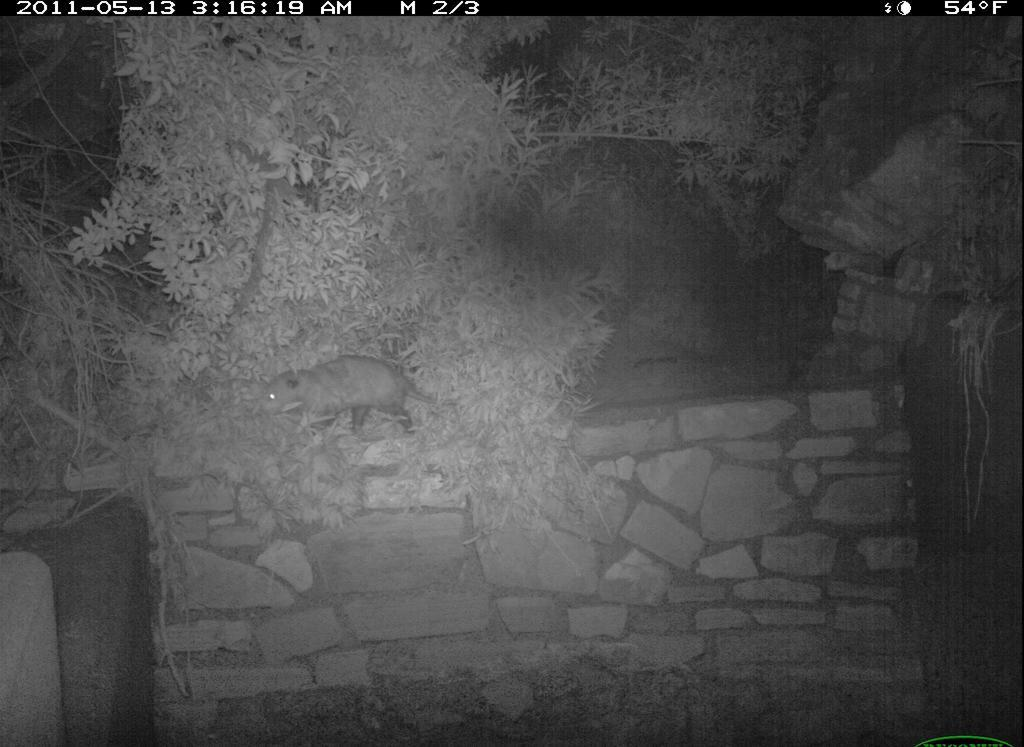opossum: (255, 349, 456, 446)
